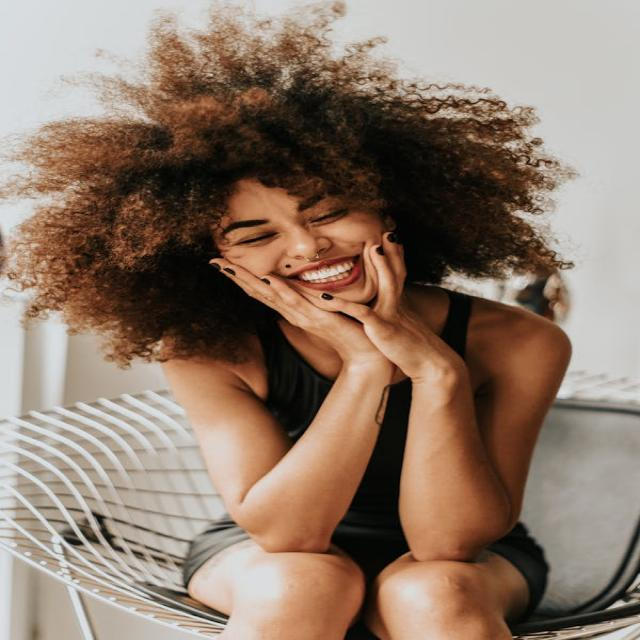Real human 2: (34, 48, 589, 640)
